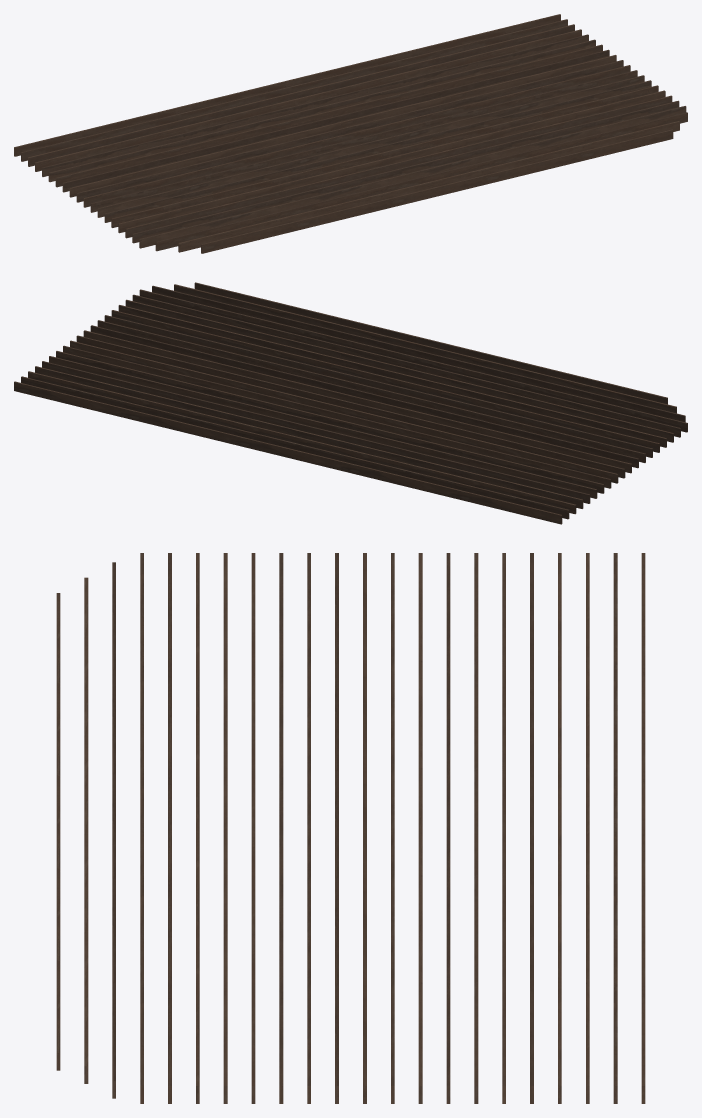
File: EC_WoodenCeiling01.FBX
3 renders of one model, top to bottom at view 1: azimuth 30°, elevation 25°; view 2: azimuth 150°, elevation 25°; view 3: azimuth 270°, elevation 25°, orthographic. The views are drawn at different scales.
Visible parts, largest first — view 1: EC_WoodenCeiling01; view 2: EC_WoodenCeiling01; view 3: EC_WoodenCeiling01.
Part boxes in pixels (bbox=[...]): EC_WoodenCeiling01: bbox=[14, 14, 687, 253]; EC_WoodenCeiling01: bbox=[14, 282, 687, 524]; EC_WoodenCeiling01: bbox=[56, 553, 645, 1103].
Size of the model in its own units: 14279 by 222 by 6665.
